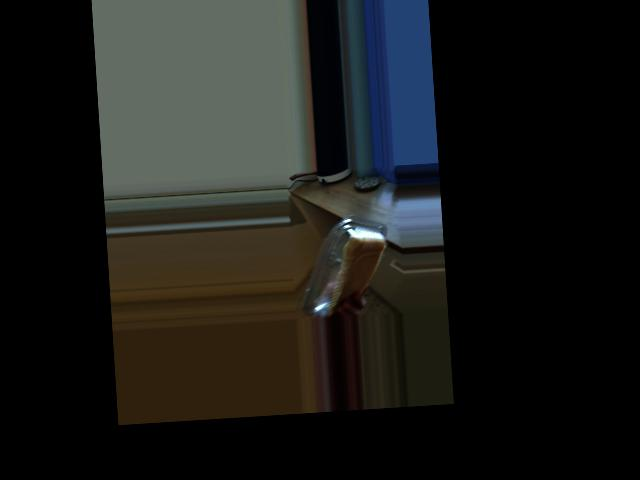cheese: (311, 224, 378, 283)
